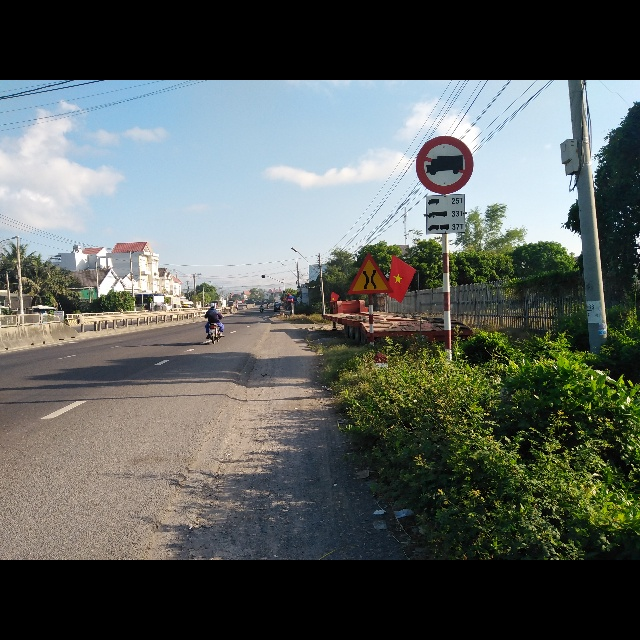Cấm xe tải: (416, 134, 477, 193)
Cầu hẹp: (345, 251, 391, 296)
